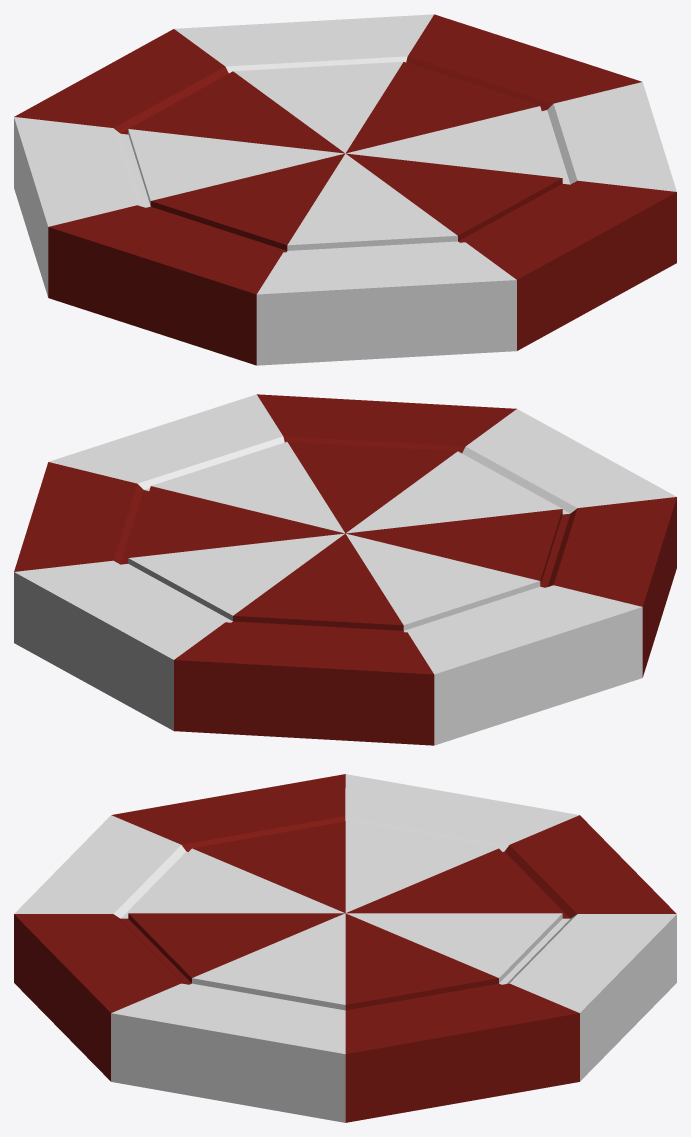
The model's file is Poker_Chip_Red.fbx.
3 renders of one model, top to bottom at view 1: azimuth 30°, elevation 25°; view 2: azimuth 150°, elevation 25°; view 3: azimuth 270°, elevation 25°, orthographic. The views are drawn at different scales.
Visible parts, largest first — view 1: Base_Mesh_Poker_Chip_Red; view 2: Base_Mesh_Poker_Chip_Red; view 3: Base_Mesh_Poker_Chip_Red.
Boxes of the visible parts, x1=… form: Base_Mesh_Poker_Chip_Red: x1=14, y1=14, x2=676, y2=365; Base_Mesh_Poker_Chip_Red: x1=14, y1=394, x2=676, y2=745; Base_Mesh_Poker_Chip_Red: x1=14, y1=774, x2=676, y2=1122.
Size of the model in its own units: 6.6 by 0.7888 by 6.6.
